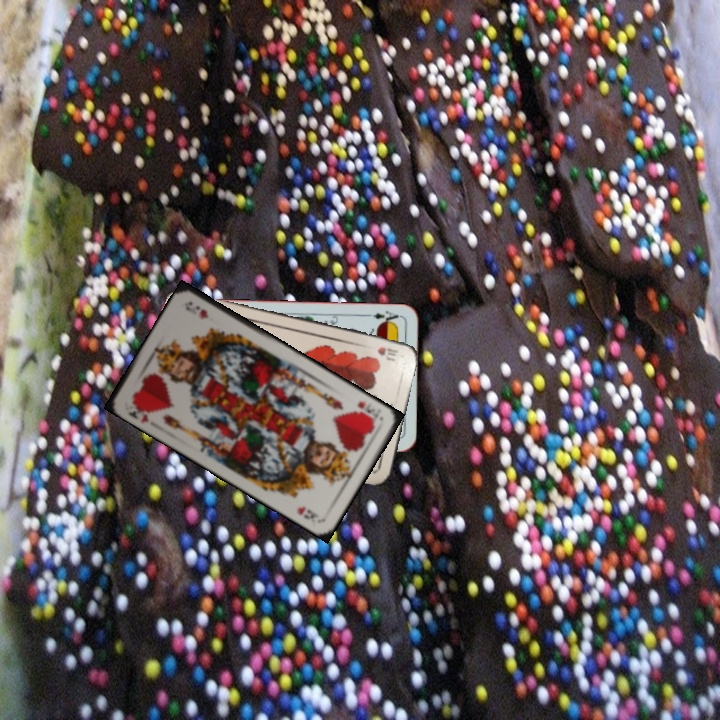EA: (369, 307, 400, 326)
H10: (373, 342, 400, 362)
HK: (124, 397, 157, 425), (353, 397, 380, 423)
